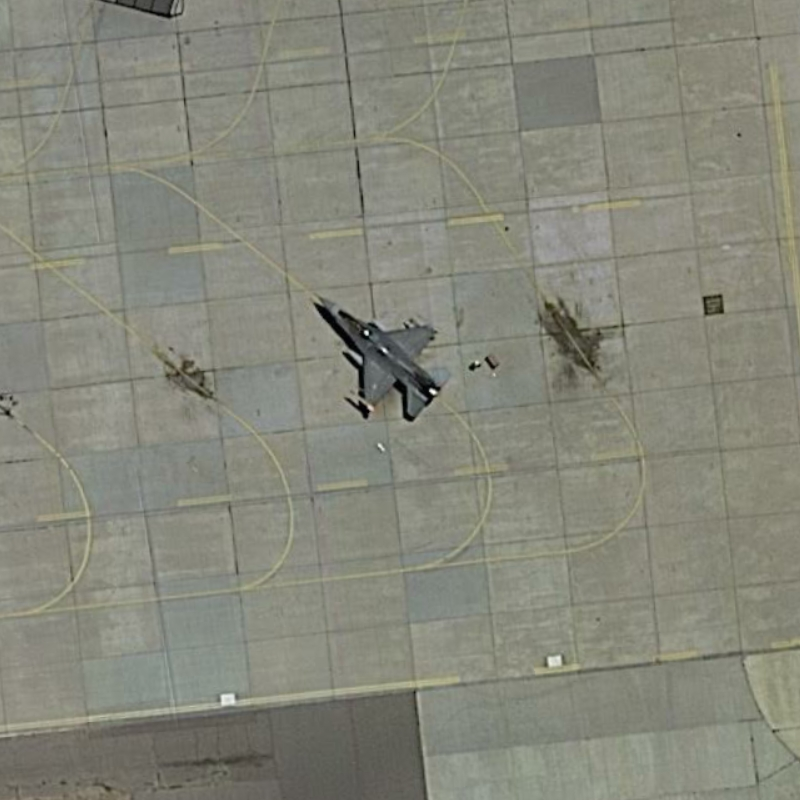A5: (308, 289, 460, 428)
